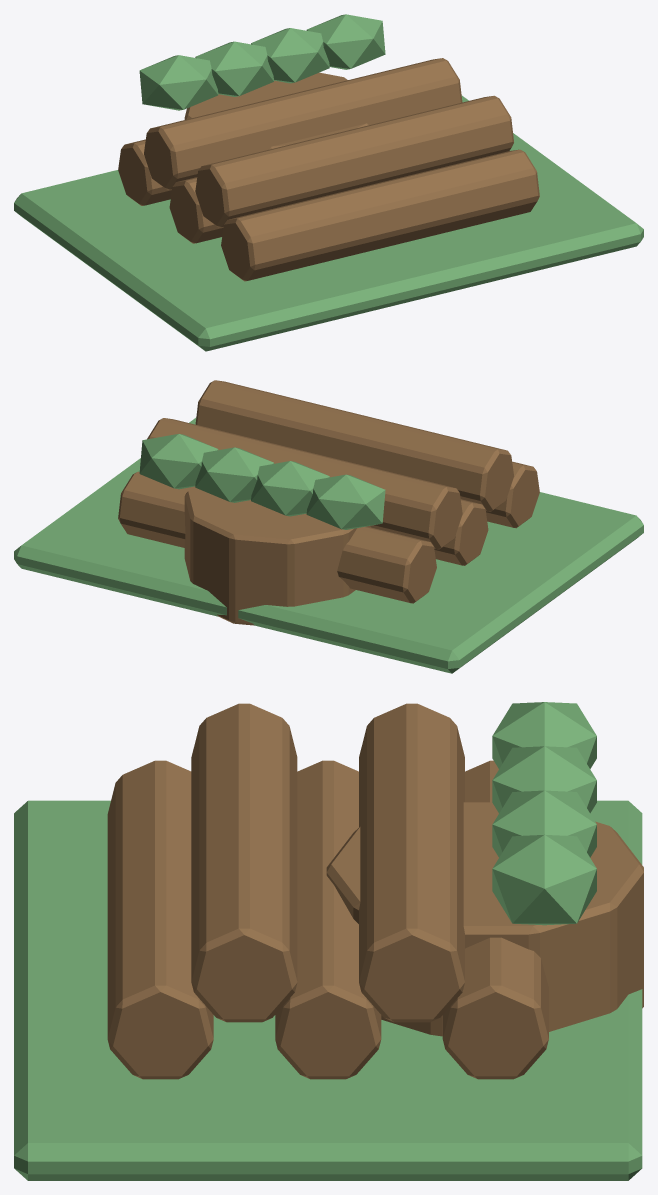
The model's file is greenmere_oak_grove.glb.
3 views of the same model, one above another, from view 1: azimuth 30°, elevation 25°; view 2: azimuth 150°, elevation 25°; view 3: azimuth 270°, elevation 25° (orthographic). The views are drawn at different scales.
Size of the model in its own units: 2.4 by 0.7629 by 1.8.
